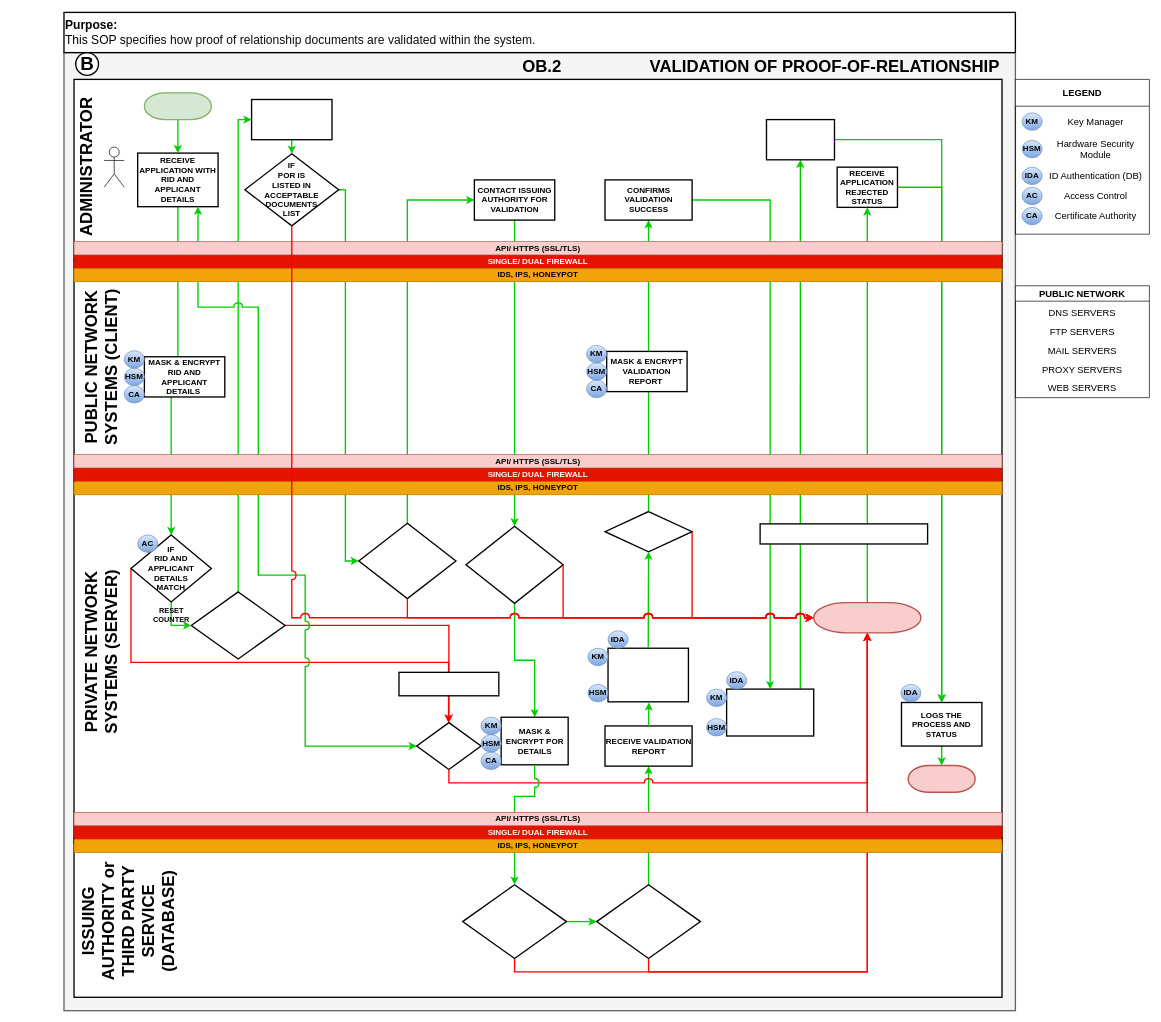
This 1161x1022 diagram has some shape labels left out. The shapes that lost their labels are listed below. From the top down, each one's centre as x and y in pixels, then its label:
At (177,106): "START (ONLINE)".
At (291,119): "INITIATE POR VALIDATION".
At (800,139): "RECEIVE POR VALIDATION APPROVED STATUS".
At (114,166): "ADMIN".
At (648,531): "IF VALIDATION SUCCESS".
At (843,533): "NOTIFICATION GENERATOR".
At (407,560): "IF POR IS NOT EXPIRED MORE THAN THREE MONTHS".
At (514,564): "IF POR SCAN COPY MATCHES WITH ID TEMPLATE LIBRARY".
At (237,625): "IF POI AND POA VALIDATION IS APPROVED".
At (867,617): "TERMINATE PROCESS: REJECT APPLICATION".
At (448,683): "EXCEPTION AND ERROR HANDLING (COUNTER)".
At (648,674): "STORE EXTERNAL VALIDATION REPORT DETAILS & STATUS IN RID ACCOUNT".
At (770,712): "UPDATE RID ACCOUNT WITH POR VALIDATION APPROVED STATUS".
At (448,746): "IF RETRY COUNT <=3".
At (941,778): "END".
At (514,921): "IF POR DOCUMENT NUMBER AND DETAILS MATCH".
At (648,921): "IF POR NOT IN LOST or THEFT DOCUMENT DATABASE".
